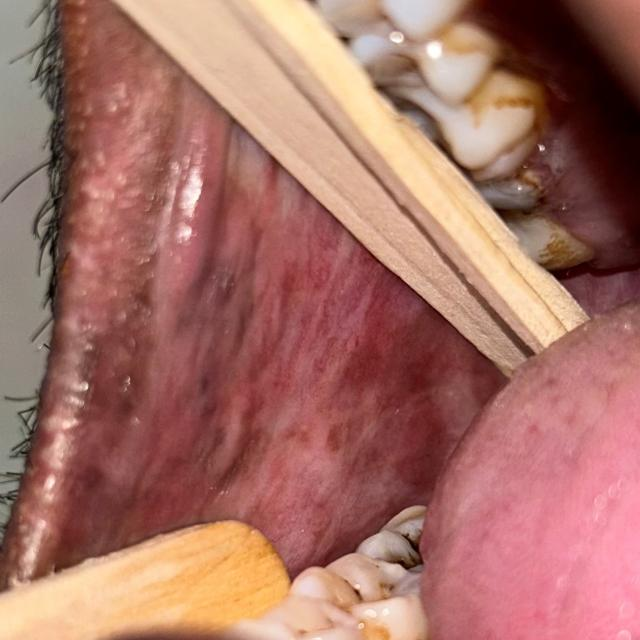leukoplakia-like-detection: (70, 153, 485, 570)
processing_area: (52, 87, 637, 640)
